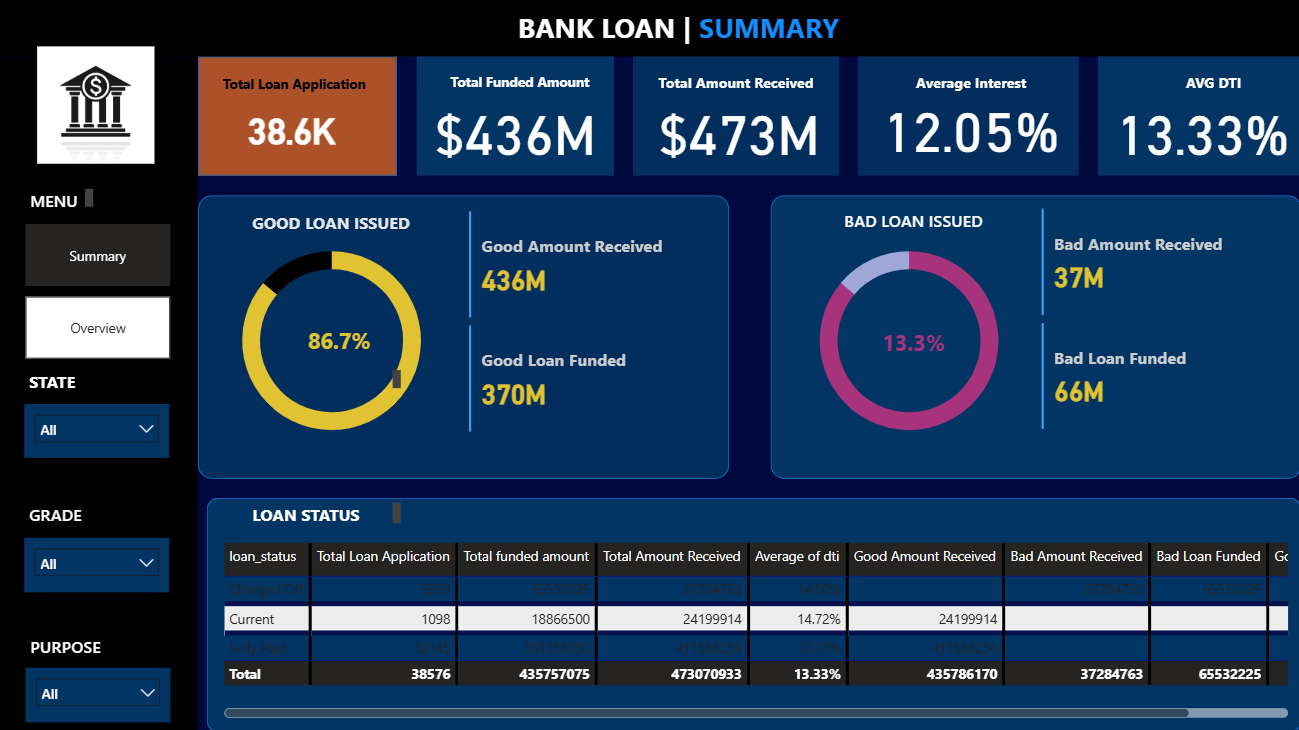

This screenshot's page, from the dashboard's own definition file:
{"tool":"powerbi","page":{"name":"Summary","canvas":[1280,720],"ordinal":0},"visuals":[{"type":"shape","box":[196.3,56.4,195,117],"z":0},{"type":"shape","box":[0,0,1279.8,56.4],"z":1000},{"type":"shape","box":[0,56.4,196.3,663.8],"z":2000},{"type":"textbox","box":[505.5,4.9,338.7,46.6],"z":3000},{"type":"card","fields":{"Values":["bank_loan financial_loan.Total Loan Application"]},"box":[186.5,42.9,203.7,168.1],"z":4000},{"type":"textbox","box":[191.4,68.7,198.8,31.9],"z":5000},{"type":"textbox","box":[411,56.4,193.9,116.6],"z":6000},{"type":"textbox","box":[411,67.5,202.5,47.9],"z":7000},{"type":"card","fields":{"Values":["bank_loan financial_loan.Total funded amount"]},"box":[411,92,193.9,71.2],"z":8000},{"type":"textbox","box":[623.3,56.4,202.5,116.6],"z":9000},{"type":"textbox","box":[623.3,67.5,202.5,33.1],"z":10000},{"type":"card","fields":{"Values":["bank_loan financial_loan.Total Amount Received"]},"box":[629.5,88.3,196.3,78.5],"z":11000},{"type":"textbox","box":[844.2,56.4,217.2,116.6],"z":12000},{"type":"textbox","box":[857.7,67.5,195.1,62.6],"z":13000},{"type":"card","fields":{"Values":["Avg(bank_loan financial_loan.int_rate)"]},"box":[857.7,88.3,195.1,71.2],"z":14000},{"type":"textbox","box":[1079.8,56.4,200,116.6],"z":15000},{"type":"textbox","box":[1106.8,67.5,173,185.3],"z":16000},{"type":"card","fields":{"Values":["Avg(bank_loan financial_loan.dti)"]},"box":[1084.7,51.5,195.1,152.1],"z":17000},{"type":"shape","box":[196.3,192.6,521.5,278.5],"z":18000},{"type":"shape","box":[758.3,192.6,521.5,278.5],"z":19000},{"type":"donutChart","fields":{"Y":["bank_loan financial_loan.Total Loan Application"],"Category":["bank_loan financial_loan.Good Vs Bad Loan"]},"box":[202.5,220.9,250.3,229.4],"z":20000},{"type":"textbox","box":[278.5,315.3,112.9,57.7],"z":21000},{"type":"textbox","box":[196.3,203.7,261.4,34.4],"z":22000},{"type":"cardVisual","fields":{"Data":["bank_loan financial_loan.Good Amount Received","bank_loan financial_loan.Good Loan Funded"]},"box":[457.7,203.7,251.5,227],"z":23000},{"type":"donutChart","fields":{"Y":["bank_loan financial_loan.Total Loan Application"],"Category":["bank_loan financial_loan.Good Vs Bad Loan"]},"box":[769.3,220.9,250.3,229.4],"z":24000},{"type":"cardVisual","fields":{"Data":["bank_loan financial_loan.Bad Amount Received","bank_loan financial_loan.Bad Loan Funded"]},"box":[1019.6,201.2,251.5,227],"z":25000},{"type":"textbox","box":[844.2,317.8,109.2,71.2],"z":26000},{"type":"shape","box":[204.9,489.6,1074.9,230.7],"z":27000},{"type":"tableEx","fields":{"Values":["bank_loan financial_loan.loan_status","bank_loan financial_loan.Total Loan Application","bank_loan financial_loan.Total funded amount","bank_loan financial_loan.Total Amount Received","Avg(bank_loan financial_loan.dti)","bank_loan financial_loan.Good Amount Received","bank_loan financial_loan.Bad Amount Received","bank_loan financial_loan.Bad Loan Funded","bank_loan financial_loan.Good Loan Funded"]},"box":[216,528.8,1055.2,181.6],"z":28000},{"type":"textbox","box":[204.9,489.6,195.1,39.3],"z":29000},{"type":"slicer","fields":{"Values":["bank_loan financial_loan.address_state"]},"box":[25.8,397.5,142.3,52.8],"z":30000},{"type":"textbox","box":[25.8,359.5,374.2,29.4],"z":31000},{"type":"slicer","fields":{"Values":["bank_loan financial_loan.grade"]},"box":[25.8,528.8,142.3,54],"z":32000},{"type":"textbox","box":[25.8,489.6,374.2,30.7],"z":33000},{"type":"slicer","fields":{"Values":["bank_loan financial_loan.purpose"]},"box":[27,656.4,142.3,54],"z":34000},{"type":"textbox","box":[27,619.6,373,36.8],"z":35000},{"type":"image","box":[0,41.7,191.4,125.2],"z":36000},{"type":"pageNavigator","box":[27,220.9,142.3,132.5],"z":37000},{"type":"textbox","box":[27,181.6,71.2,29.4],"z":38000},{"type":"textbox","box":[825.8,201.2,179.1,198.8],"z":39000}]}

Visuals, with their boxes in screenshot pixels (x1, y1, x2, y2), scaled from the page's 1280x720 canvas onto the 1299x730 screenshot:
shape: select_region(199, 57, 397, 176)
shape: select_region(0, 0, 1298, 57)
shape: select_region(0, 57, 199, 729)
textbox: select_region(513, 5, 857, 52)
card - bank_loan financial_loan.Total Loan Application: select_region(189, 43, 396, 214)
textbox: select_region(194, 70, 396, 102)
textbox: select_region(417, 57, 614, 175)
textbox: select_region(417, 68, 623, 117)
card - bank_loan financial_loan.Total funded amount: select_region(417, 93, 614, 165)
textbox: select_region(633, 57, 838, 175)
textbox: select_region(633, 68, 838, 102)
card - bank_loan financial_loan.Total Amount Received: select_region(639, 90, 838, 169)
textbox: select_region(857, 57, 1077, 175)
textbox: select_region(870, 68, 1068, 132)
card - Avg(bank_loan financial_loan.int_rate): select_region(870, 90, 1068, 162)
textbox: select_region(1096, 57, 1298, 175)
textbox: select_region(1123, 68, 1298, 256)
card - Avg(bank_loan financial_loan.dti): select_region(1101, 52, 1298, 206)
shape: select_region(199, 195, 728, 478)
shape: select_region(770, 195, 1298, 478)
donutChart - bank_loan financial_loan.Total Loan Application x bank_loan financial_loan.Good Vs Bad Loan: select_region(206, 224, 460, 457)
textbox: select_region(283, 320, 397, 378)
textbox: select_region(199, 207, 464, 241)
cardVisual - bank_loan financial_loan.Good Amount Received x bank_loan financial_loan.Good Loan Funded: select_region(464, 207, 720, 437)
donutChart - bank_loan financial_loan.Total Loan Application x bank_loan financial_loan.Good Vs Bad Loan: select_region(781, 224, 1035, 457)
cardVisual - bank_loan financial_loan.Bad Amount Received x bank_loan financial_loan.Bad Loan Funded: select_region(1035, 204, 1290, 434)
textbox: select_region(857, 322, 968, 394)
shape: select_region(208, 496, 1298, 729)
tableEx - bank_loan financial_loan.loan_status x bank_loan financial_loan.Total Loan Application: select_region(219, 536, 1290, 720)
textbox: select_region(208, 496, 406, 536)
slicer - bank_loan financial_loan.address_state: select_region(26, 403, 171, 457)
textbox: select_region(26, 364, 406, 394)
slicer - bank_loan financial_loan.grade: select_region(26, 536, 171, 591)
textbox: select_region(26, 496, 406, 528)
slicer - bank_loan financial_loan.purpose: select_region(27, 666, 172, 720)
textbox: select_region(27, 628, 406, 666)
image: select_region(0, 42, 194, 169)
pageNavigator: select_region(27, 224, 172, 358)
textbox: select_region(27, 184, 100, 214)
textbox: select_region(838, 204, 1020, 406)
